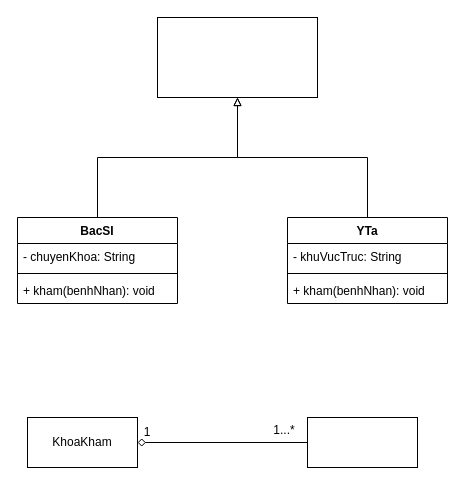
Some shapes in this 465 by 485 pixel diagram are drawn without their labels. The shapes that lost their labels are listed below. From the top down, each one's centre as x and y in pixels, then its label:
At point (237, 57): "NhanVienYTe - maNhanVien: String - hoTen: String - soDienThoai: String".
At point (362, 442): "NhanVienYTe".
